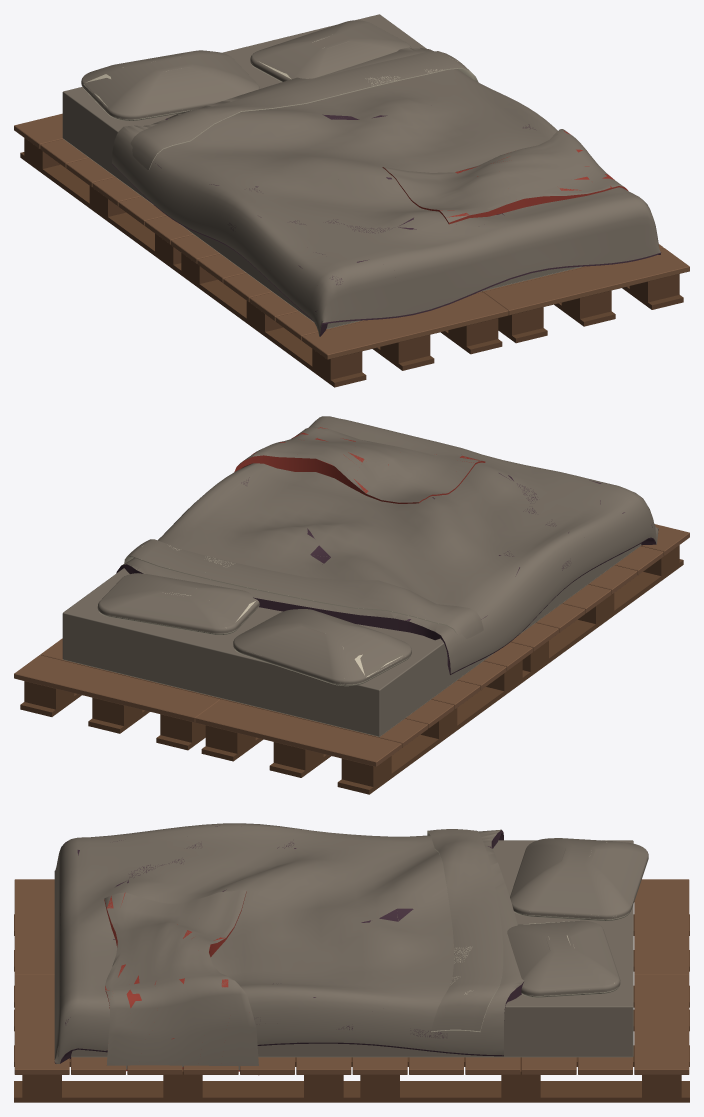
The model's file is pallet-bed-7de7182211fc.glb.
3 renders of one model, top to bottom at view 1: azimuth 30°, elevation 25°; view 2: azimuth 150°, elevation 25°; view 3: azimuth 270°, elevation 25°, orthographic. The views are drawn at different scales.
Visible parts, largest first — view 1: cover-cloth, wood-walnut, wood-walnut-dark, cloth-plum, cloth-cream, accent-warm; view 2: cover-cloth, wood-walnut, wood-walnut-dark, cloth-plum, cloth-cream, accent-warm; view 3: cover-cloth, wood-walnut, wood-walnut-dark, cloth-cream, cloth-plum, accent-warm.
Boxes of the visible parts, x1=… form: cover-cloth: x1=62, y1=14, x2=660, y2=336; wood-walnut: x1=14, y1=113, x2=689, y2=359; wood-walnut-dark: x1=20, y1=138, x2=683, y2=387; cloth-plum: x1=112, y1=114, x2=661, y2=336; cloth-cream: x1=63, y1=38, x2=582, y2=329; accent-warm: x1=382, y1=130, x2=628, y2=224; cover-cloth: x1=62, y1=416, x2=658, y2=736; wood-walnut: x1=14, y1=524, x2=689, y2=766; wood-walnut-dark: x1=20, y1=545, x2=683, y2=794; cloth-plum: x1=116, y1=473, x2=658, y2=674; cloth-cream: x1=63, y1=545, x2=640, y2=736; accent-warm: x1=234, y1=427, x2=485, y2=503; cover-cloth: x1=54, y1=823, x2=648, y2=1069; wood-walnut: x1=14, y1=879, x2=689, y2=1074; wood-walnut-dark: x1=14, y1=914, x2=689, y2=1102; cloth-cream: x1=71, y1=831, x2=633, y2=1057; cloth-plum: x1=54, y1=825, x2=523, y2=1063; accent-warm: x1=104, y1=891, x2=258, y2=1075.
Bounding box in the file's own units: 1.6 × 0.454 × 2.4.
